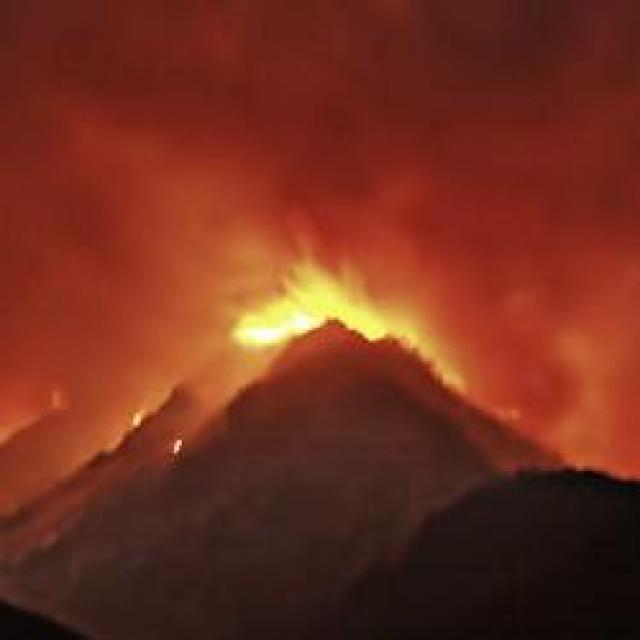fire: (237, 294, 321, 356)
smoke: (81, 129, 232, 303), (262, 170, 432, 256), (551, 318, 640, 473), (332, 266, 392, 313)
